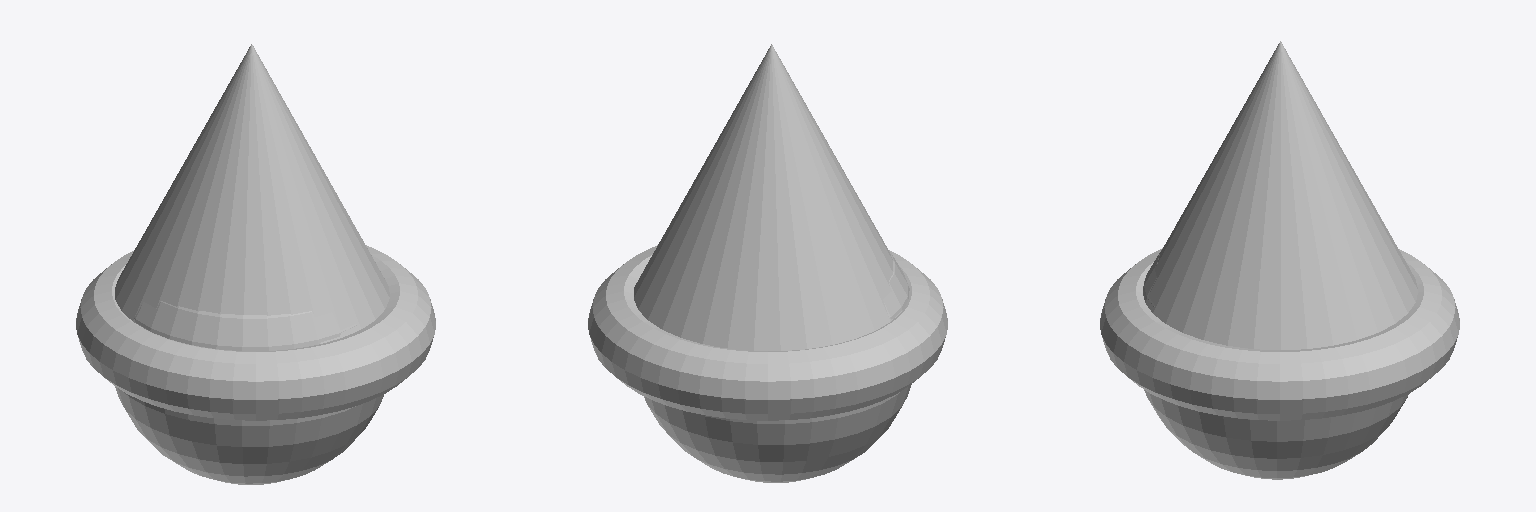
Rendered from thing.obj.
3 renders of one model, left to right at view 1: azimuth 30°, elevation 25°; view 2: azimuth 150°, elevation 25°; view 3: azimuth 270°, elevation 25°, orthographic.
Size of the model in its own units: 2.5 by 3.26 by 2.5.